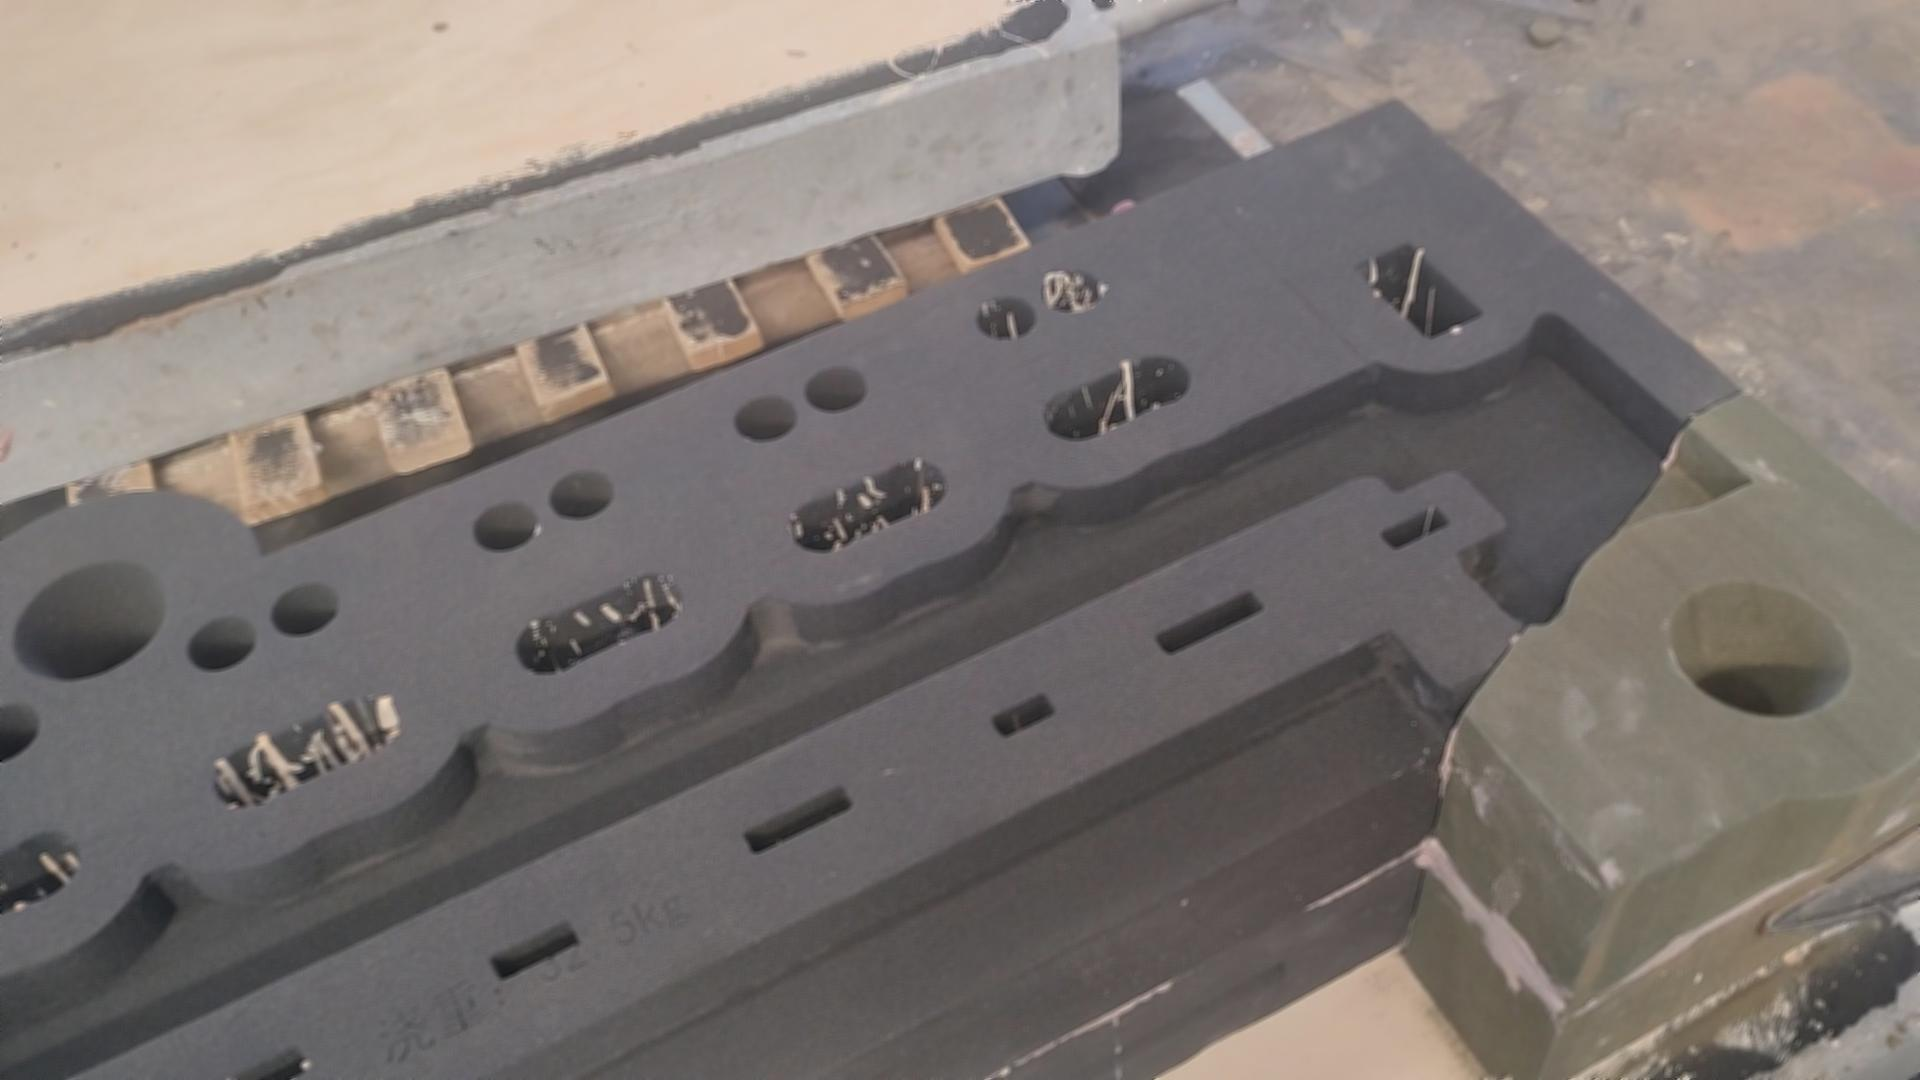pouring hole: (1668, 584, 1854, 719), (12, 560, 169, 682)
